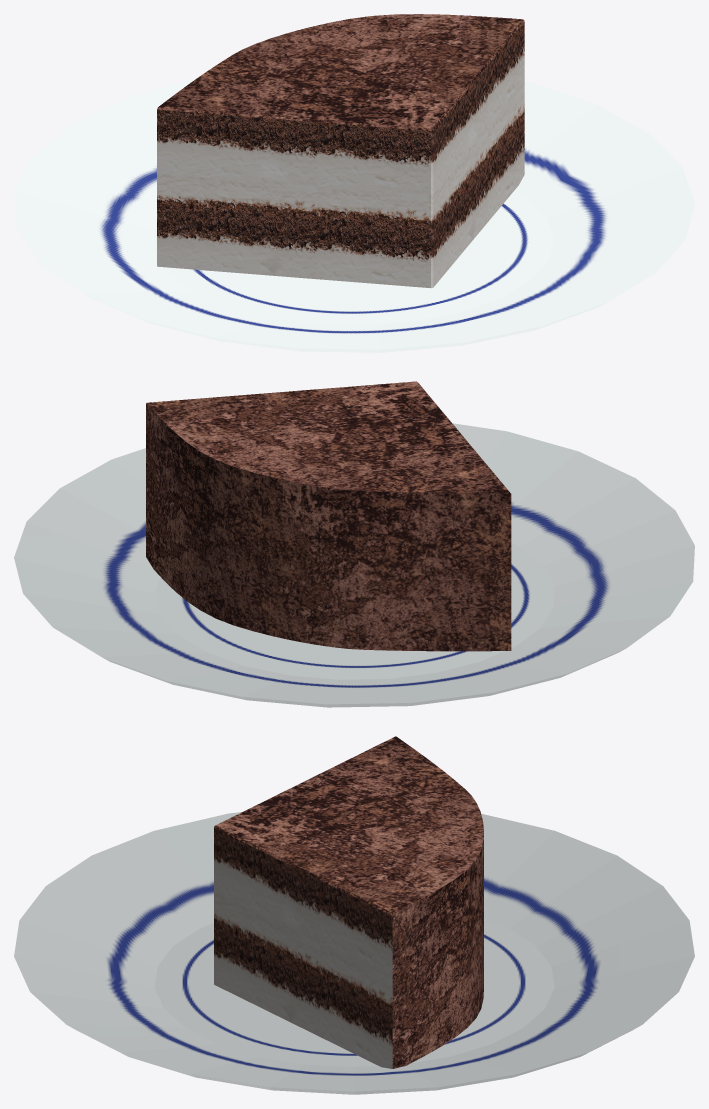
Rendered from Cake 2.FBX.
3 views of the same model, one above another, from view 1: azimuth 30°, elevation 25°; view 2: azimuth 150°, elevation 25°; view 3: azimuth 270°, elevation 25° (orthographic).
Parts seen in each view (by area): view 1: Cake 2; view 2: Cake 2; view 3: Cake 2.
Part boxes in pixels (left/top/right/bottom): Cake 2: left=14, top=14, right=694, bottom=352; Cake 2: left=14, top=381, right=694, bottom=707; Cake 2: left=14, top=736, right=694, bottom=1094.
Size of the model in its own units: 29.49 by 9.01 by 29.55.
2 materials, 2 textured.
